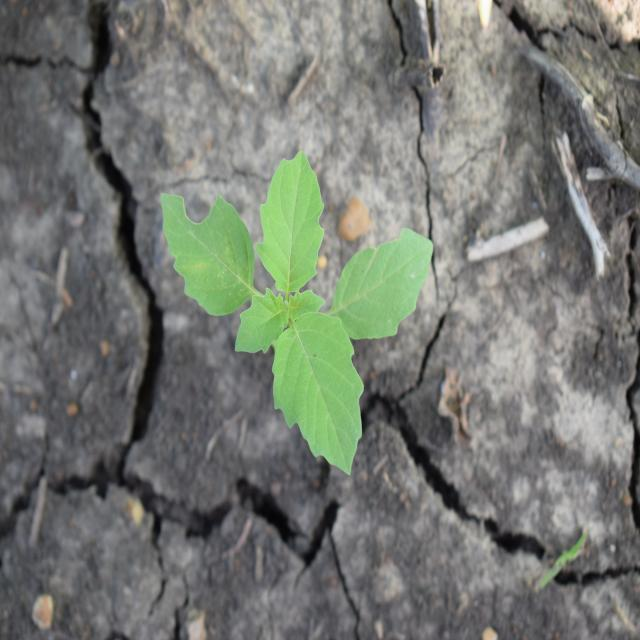CutleafGroundcherry: (158, 148, 436, 480)
